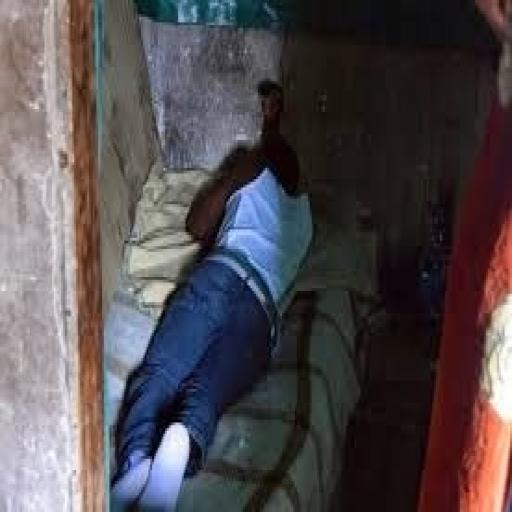sleeping: (108, 73, 316, 509)
